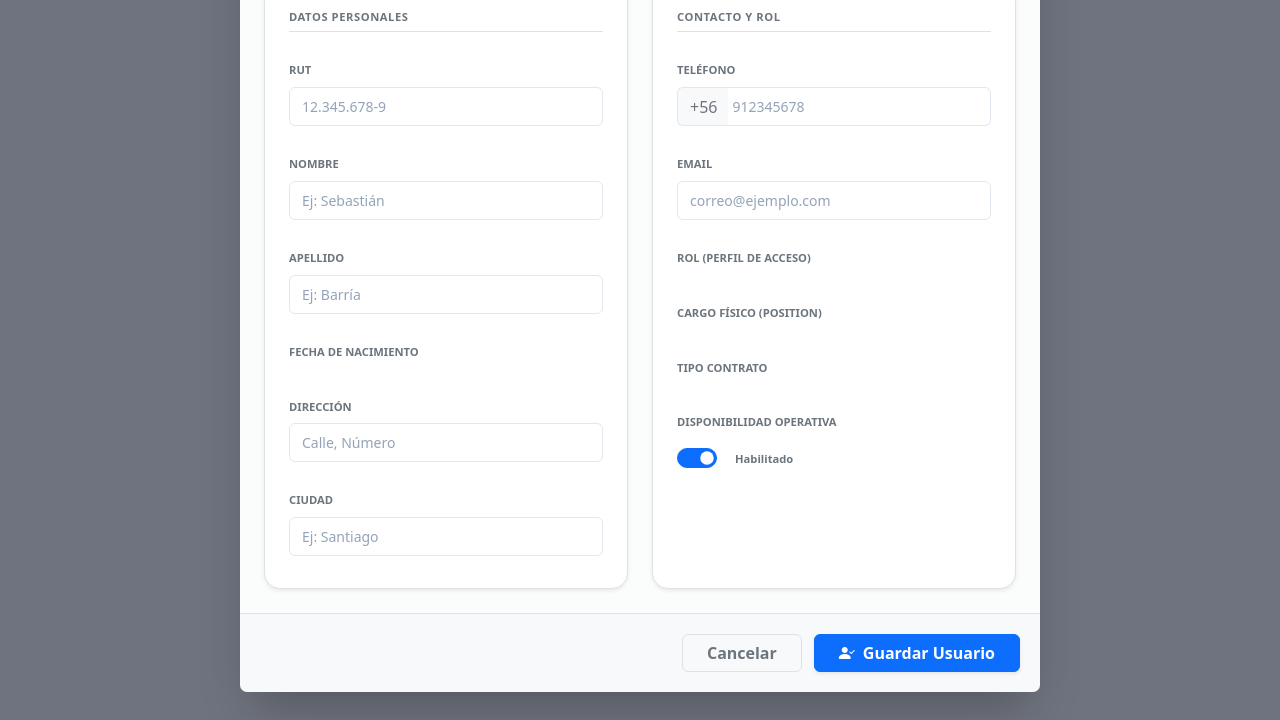
StaffModalCreate.vue › validates required fields
(page scrolled)
Click the button "Guardar Usuario" at (917,653), box [814,634,1020,672]
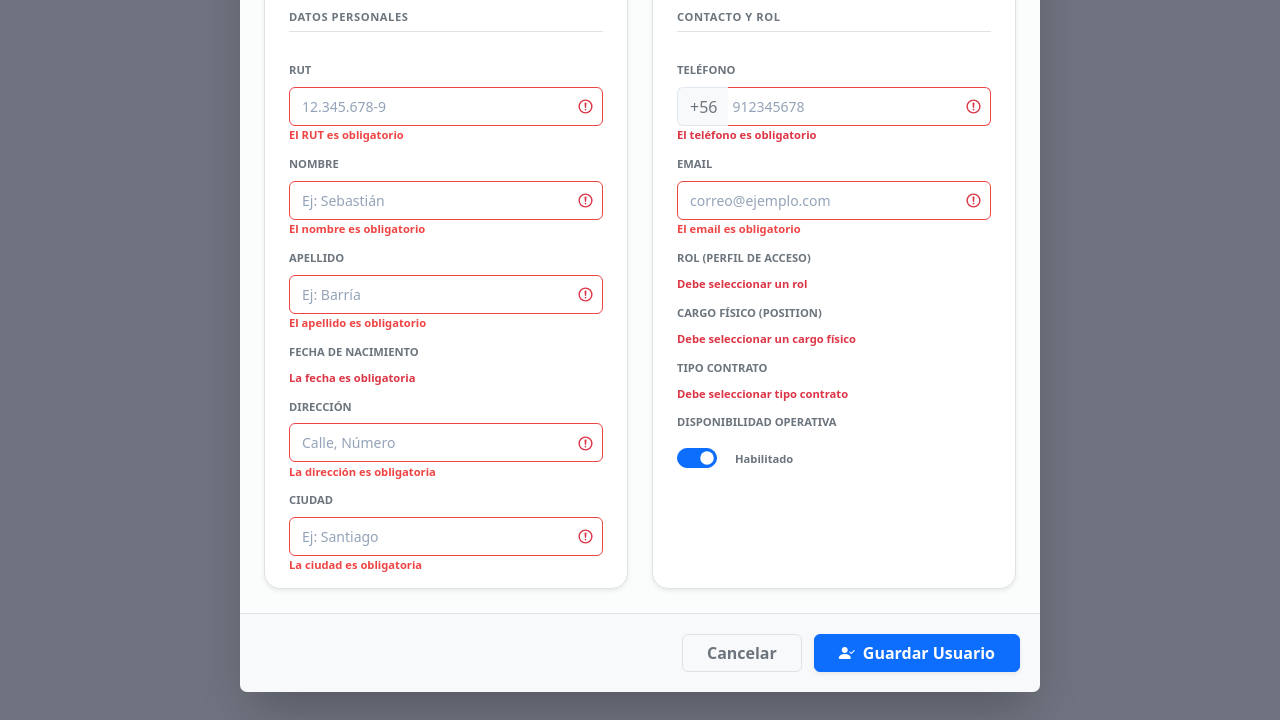
Check: the text "El RUT es obligatorio" is shown, box [289,127,404,142]
Check: the text "El nombre es obligatorio" is shown, box [289,221,425,236]
Check: the text "Debe seleccionar un cargo" is shown, box [677,331,856,346]
